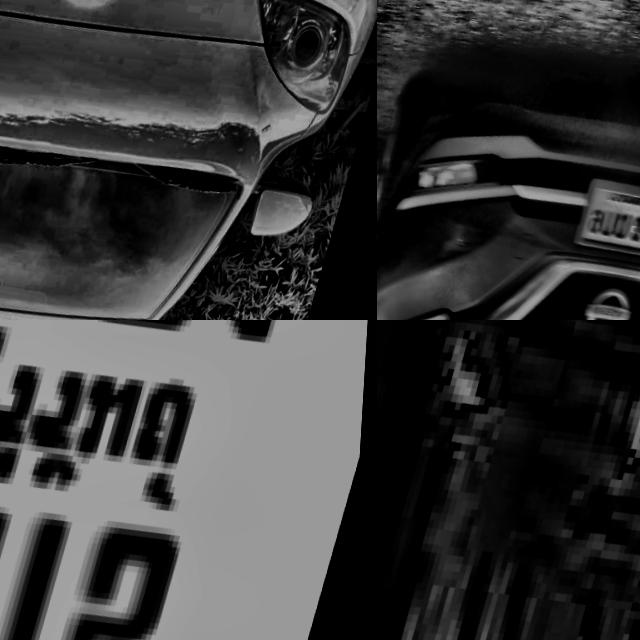license-plate: (0, 320, 377, 640), (377, 320, 640, 640), (573, 167, 640, 277)
